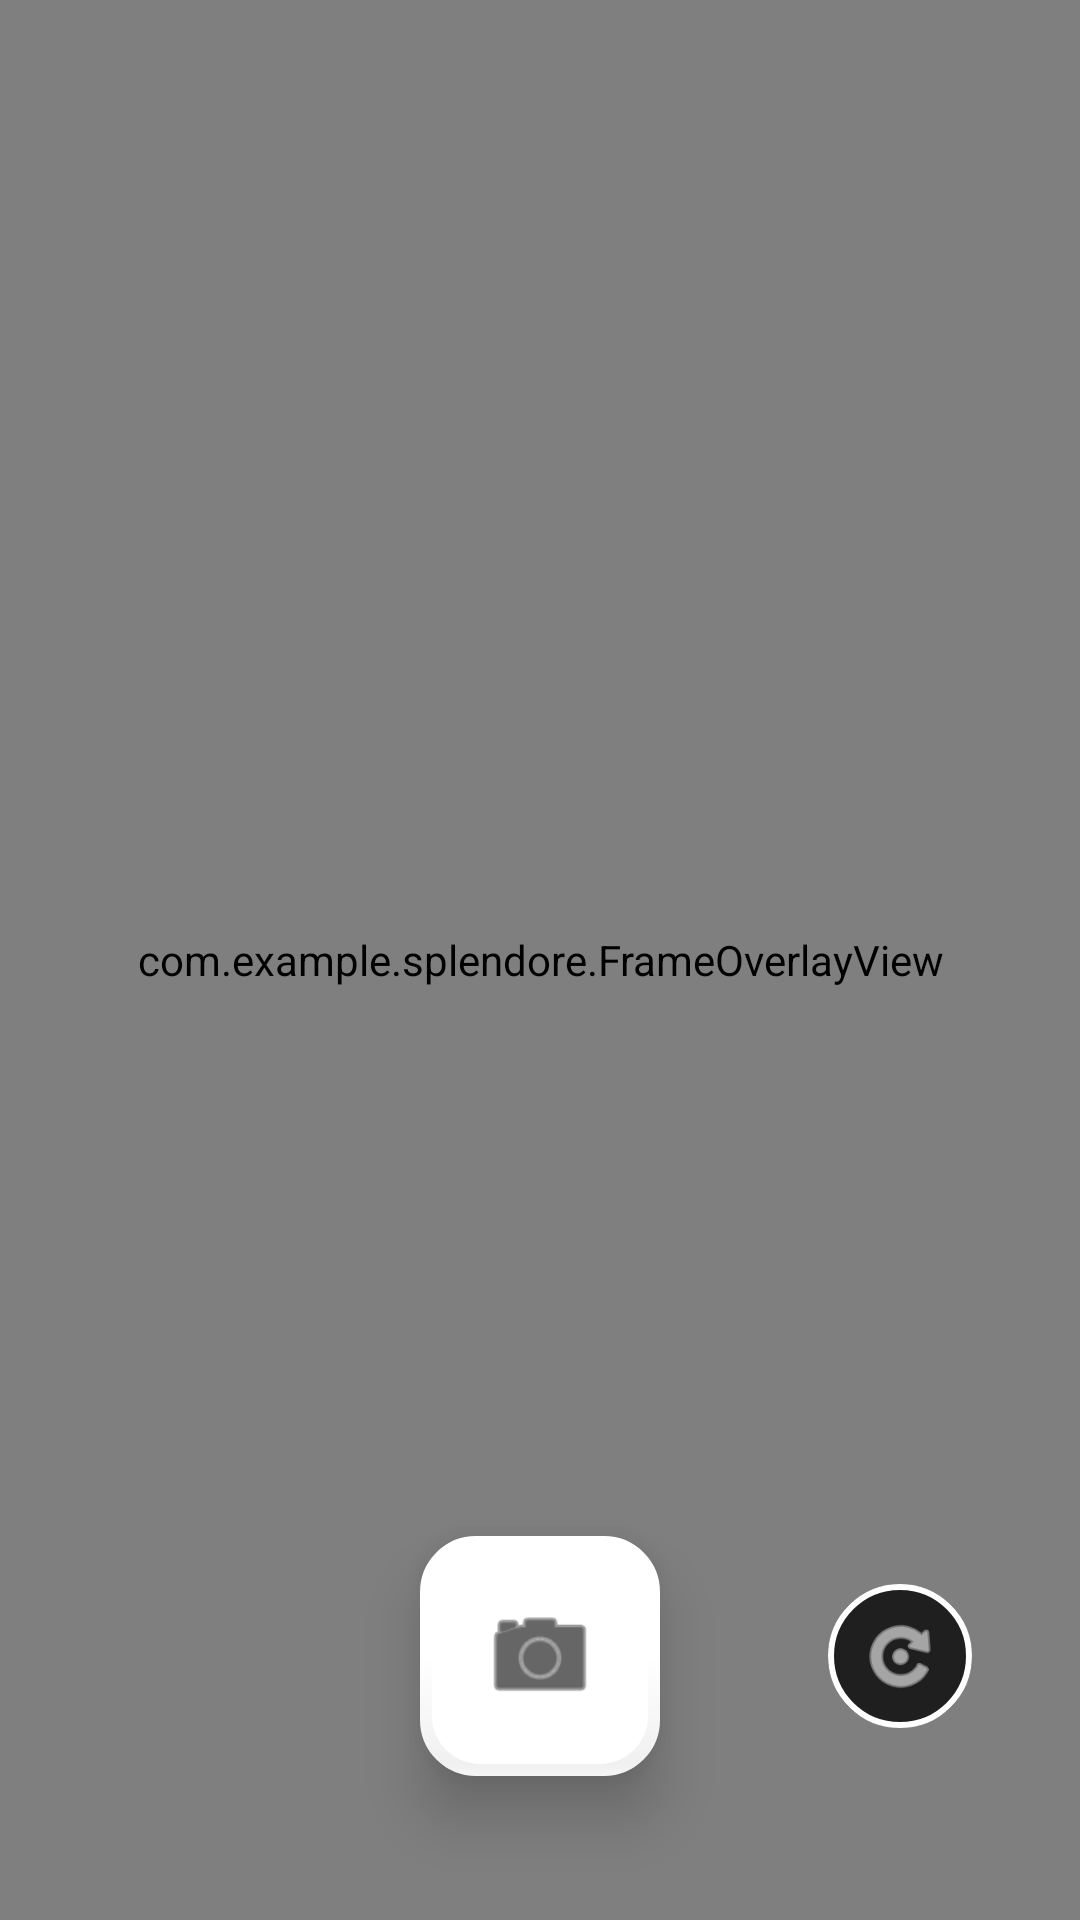

Locate icon controls on the screen. Image size 1080 × 1920, boxes as [left=x1, top=y1, right=x2, bottom=y2].
rotate: [left=828, top=1584, right=972, bottom=1728]
